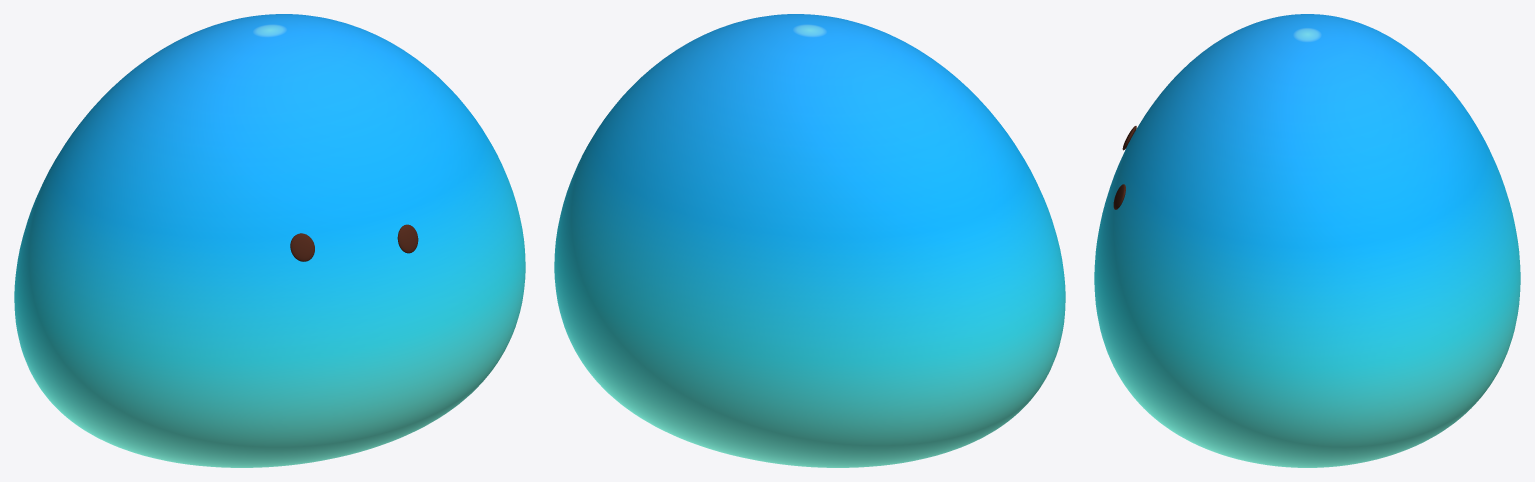
The model's file is Pino.glb.
The picture shows the model from 3 angles, left to right: view 1: azimuth 30°, elevation 25°; view 2: azimuth 150°, elevation 25°; view 3: azimuth 270°, elevation 25°; orthographic projection. The views are drawn at different scales.
Parts seen in each view (by area): view 1: Pino.Body | blue jelly, Pino.Eye.Left | cocoa button; view 2: Pino.Body | blue jelly; view 3: Pino.Body | blue jelly.
Part boxes in pixels (left/top/right/bottom): Pino.Body | blue jelly: left=14, top=14, right=525, bottom=467; Pino.Eye.Left | cocoa button: left=290, top=233, right=314, bottom=261; Pino.Body | blue jelly: left=554, top=14, right=1065, bottom=467; Pino.Body | blue jelly: left=1094, top=14, right=1520, bottom=467.
Size of the model in its own units: 0.644 by 0.52 by 0.532.
Materials: 2 (1 with a texture image).
